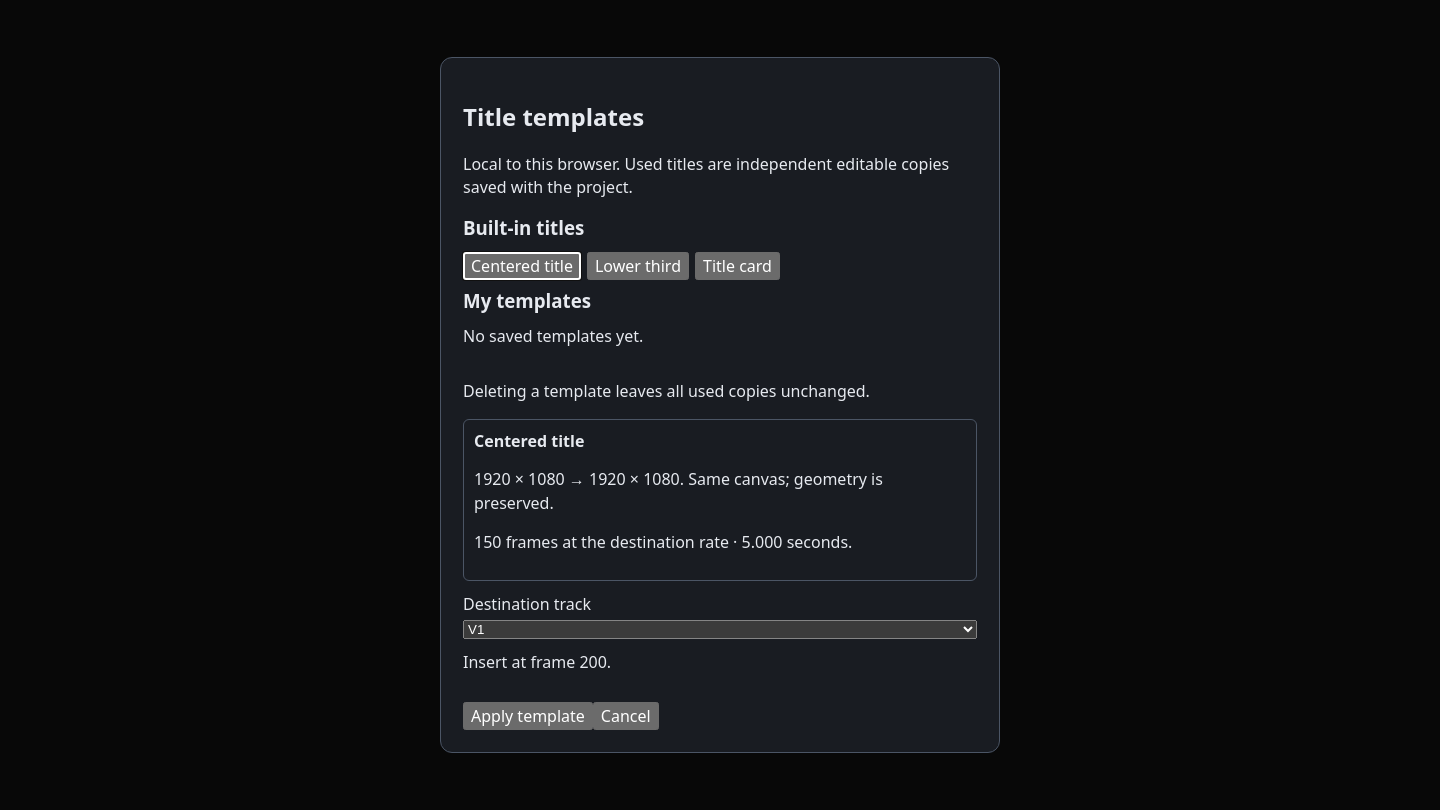
Test: title authoring surfaces › template conversion is reviewed before insertion and a changed project rejects Apply
The image size is (1440, 810).
expect the text "Same canvas; geometry is preserved" is shown: met, box [474,468,883,514]
expect the text "Insert at frame 200." is shown: met, box [463,651,611,673]
Click the button "Apply template" at (528, 716), box [463,702,593,730]
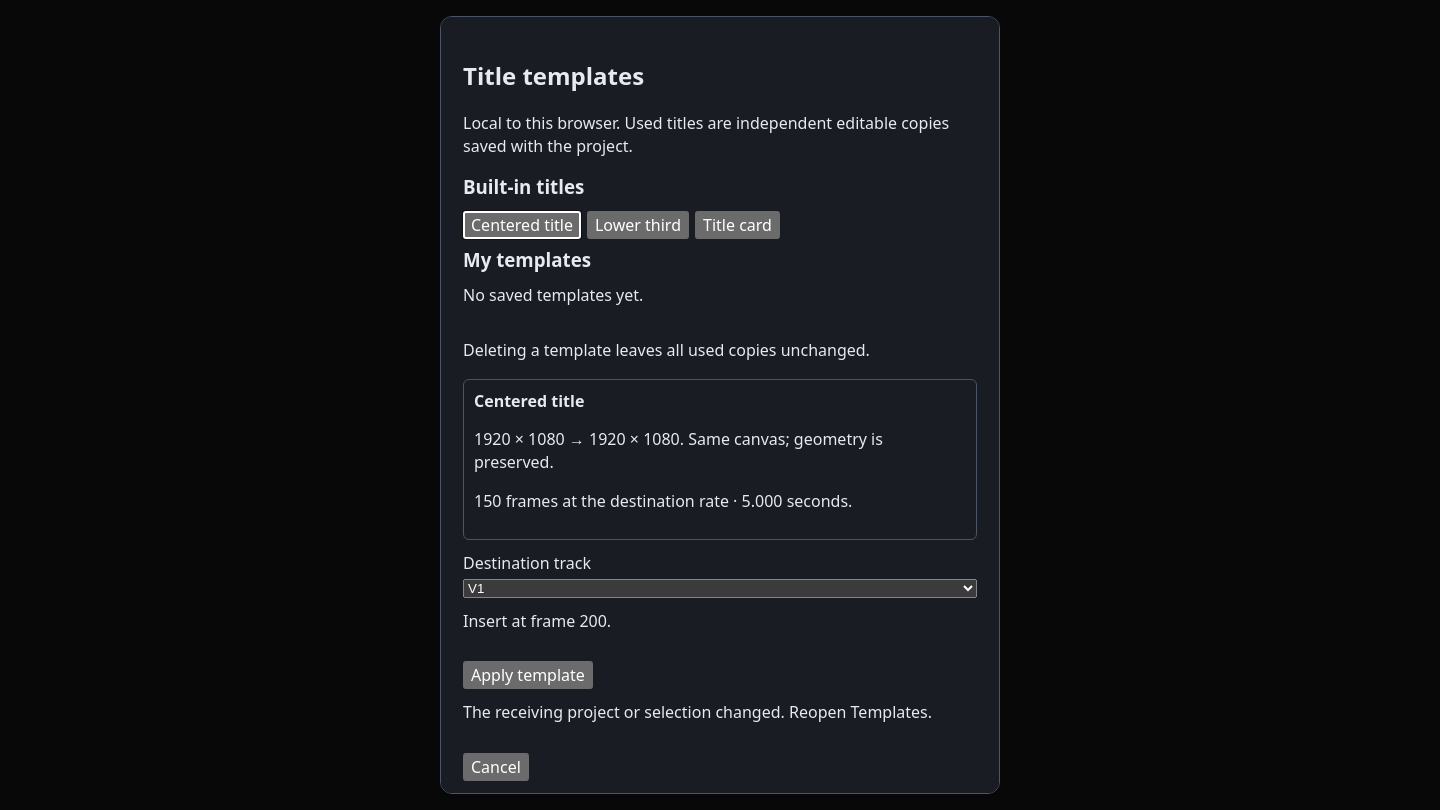
expect the message shows "changed": met, box [463,701,932,723]
